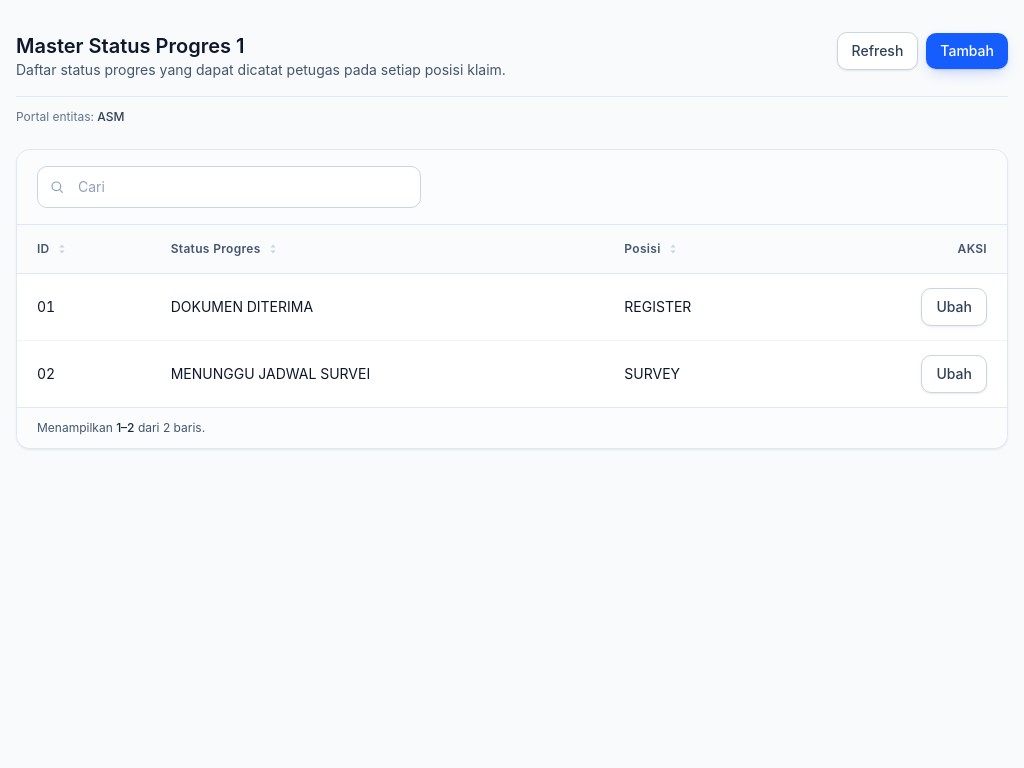
Scenario: penambahan › menyorot setiap isian yang ditolak server
The width and height of the screenshot is (1024, 768).
Step 1. Click the button "Tambah" → click(967, 51), box [926,33,1008,69]
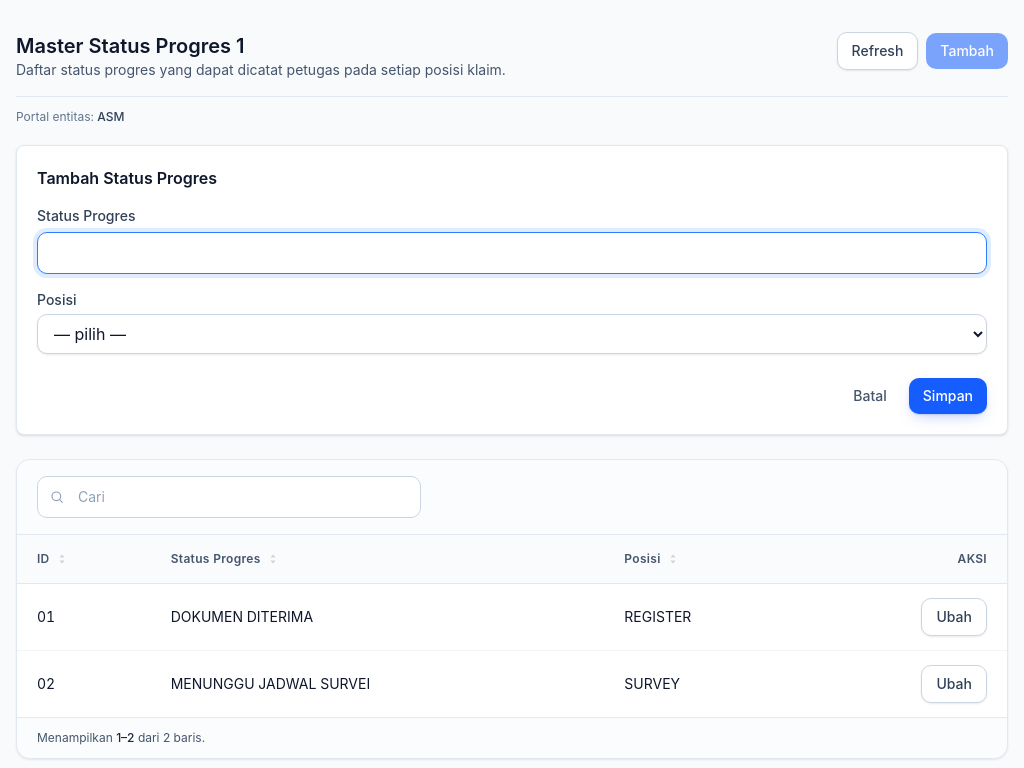
Step 2. Type "X" into the field labelled "Status Progres" → (512, 253), box [37,232,987,274]
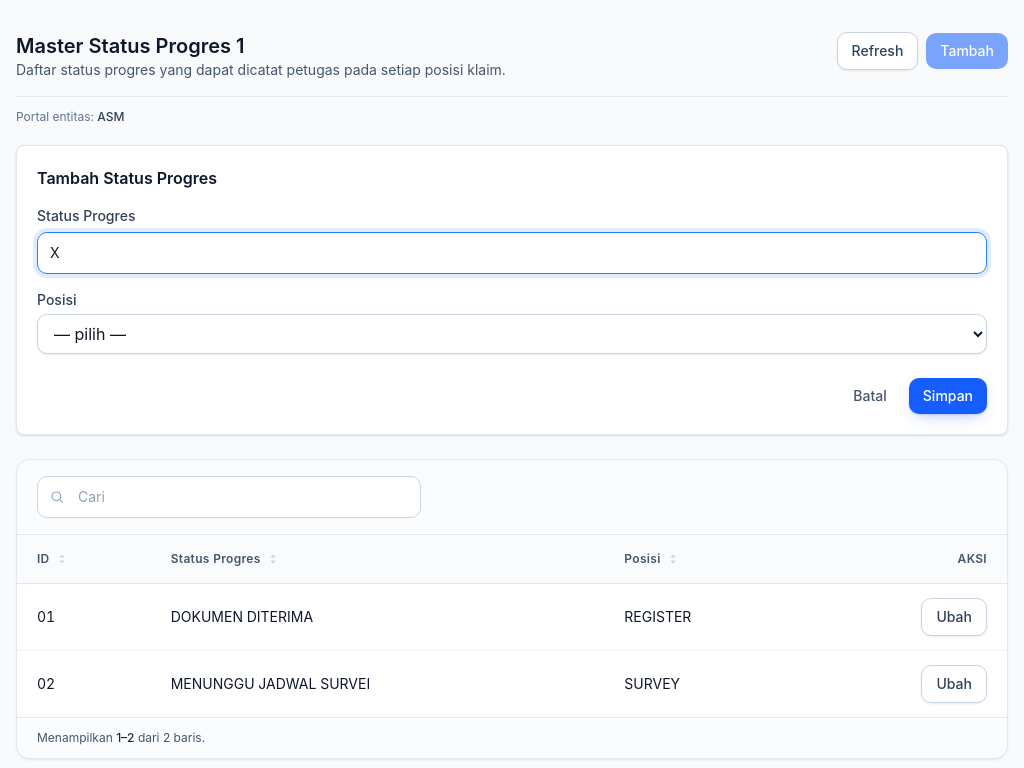
Step 3. Select "REGISTER" in the dropdown labelled "Posisi" → (512, 334), box [37,314,987,354]
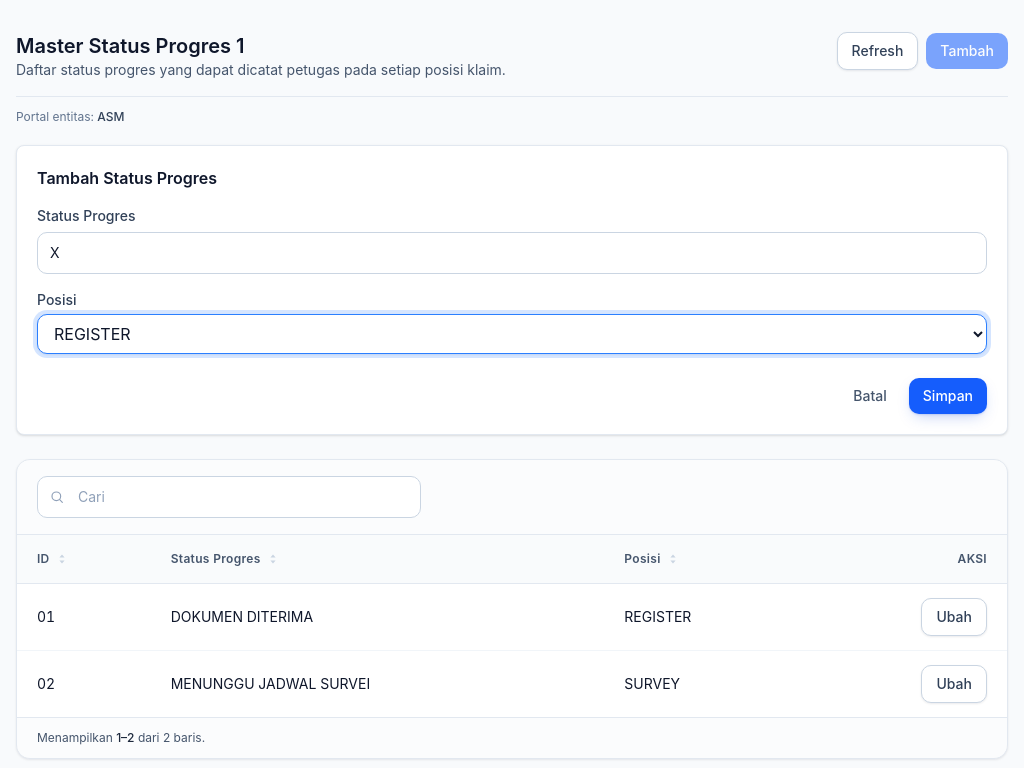
Step 4. Click the button "Simpan" → click(948, 396), box [909,378,987,414]
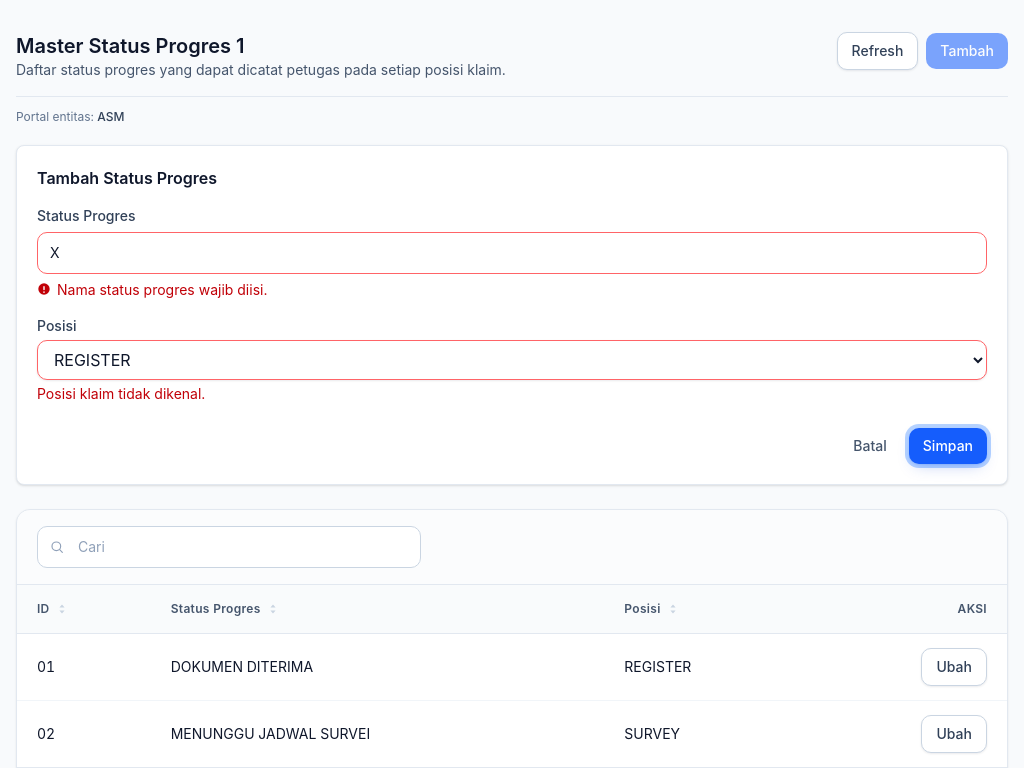
Expected: the text "Posisi klaim tidak dikenal." is shown, [37,385,205,402]
Expected: the text "Nama status progres wajib diisi." is shown, [57,280,268,300]
